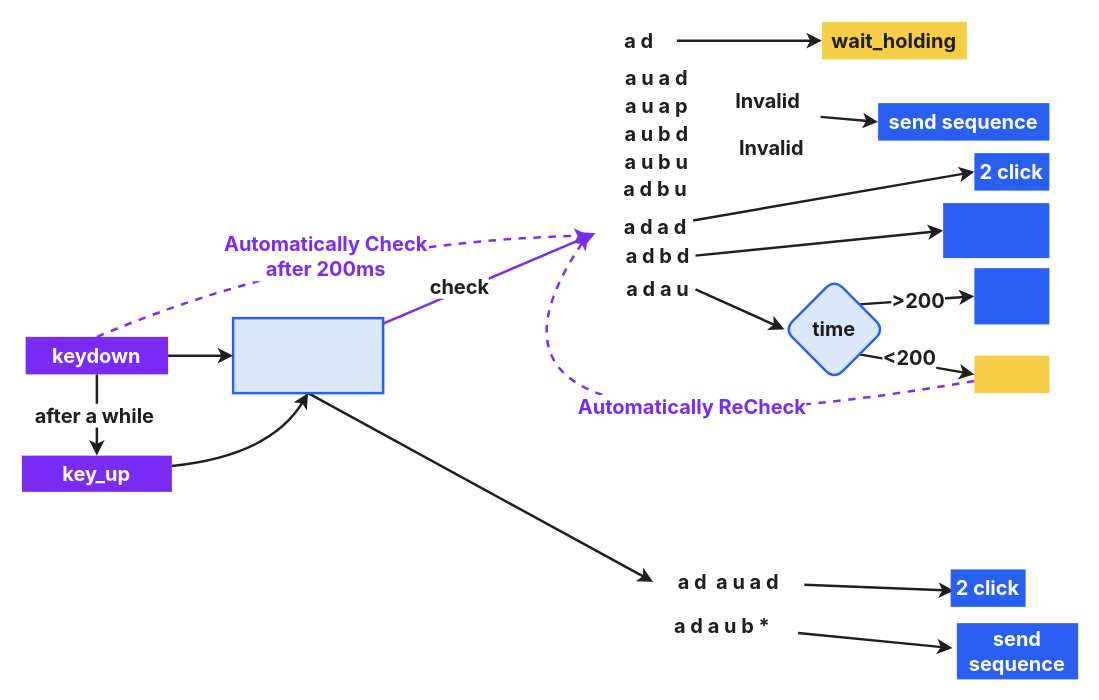
The diagram is 1099 pixels wide and 700 high, and some of its shapes have lost their labels. The shapes that lost their labels are listed below. From the top down, each one's centre as x and y in pixels, then its label:
the point at 995,230: combine
the point at 1011,296: click
the point at 307,355: push history
the point at 1011,373: wait
